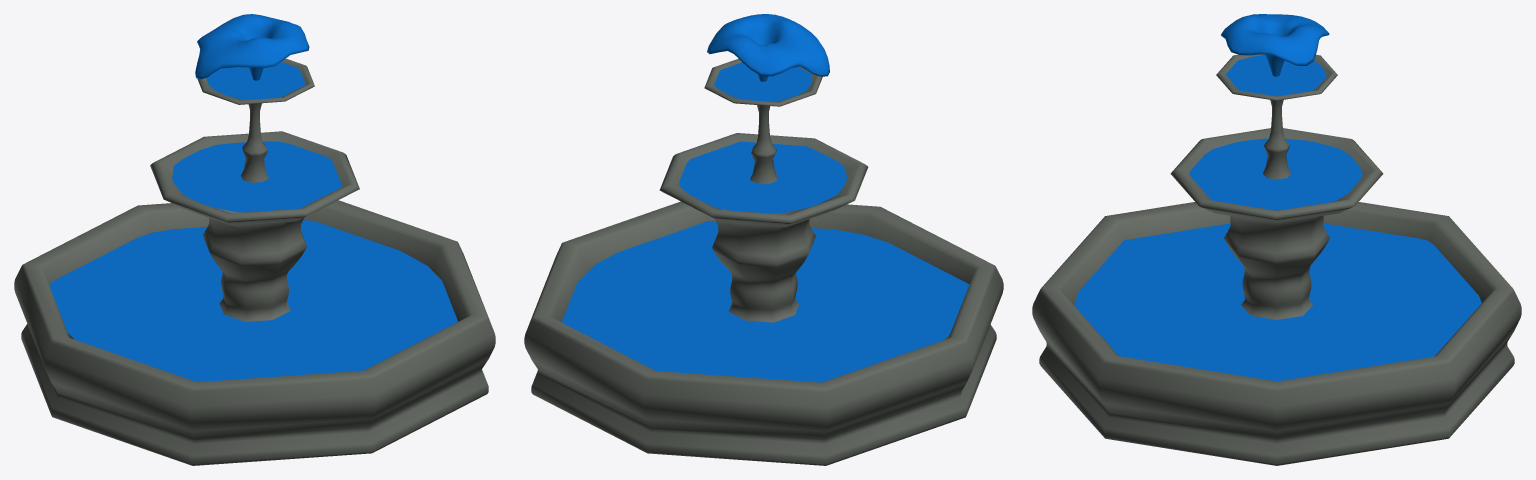
File: Fountain.fbx
3 views of the same model, side by side, from view 1: azimuth 30°, elevation 25°; view 2: azimuth 150°, elevation 25°; view 3: azimuth 270°, elevation 25° (orthographic).
Parts seen in each view (by area): view 1: Cube, Cylinder, Object001; view 2: Cube, Cylinder, Object001; view 3: Cube, Cylinder, Object001.
Boxes of the visible parts, x1,y1,x2,y2 form: Cube: [14, 58, 495, 465]; Cylinder: [50, 62, 457, 382]; Object001: [195, 14, 309, 80]; Cube: [524, 58, 1003, 465]; Cylinder: [562, 62, 969, 382]; Object001: [707, 14, 829, 81]; Cube: [1032, 54, 1521, 465]; Cylinder: [1074, 55, 1481, 381]; Object001: [1221, 14, 1329, 76].
Bounding box in the file's own units: 0.6102 × 0.4751 × 0.6102.
